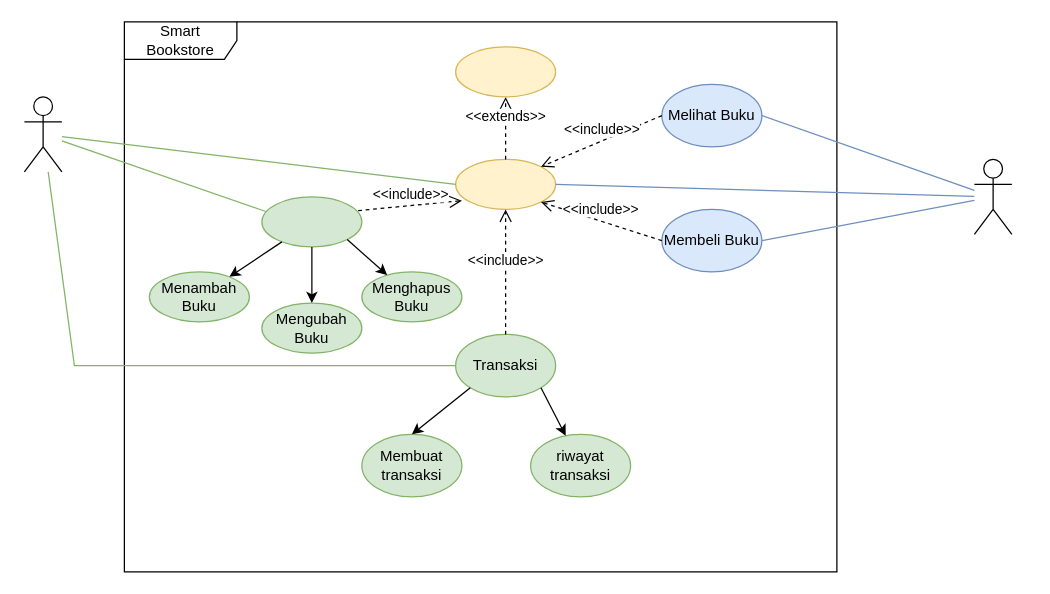
This 1050x594 diagram has some shape labels left out. Here are the shapes that lost their labels. From the top down, the box of each, then its label:
(454, 46, 556, 97): Register
(23, 96, 62, 172): Admin
(454, 158, 556, 209): Login
(973, 158, 1012, 234): Pelanggan
(261, 196, 362, 247): Mengelola Buku
